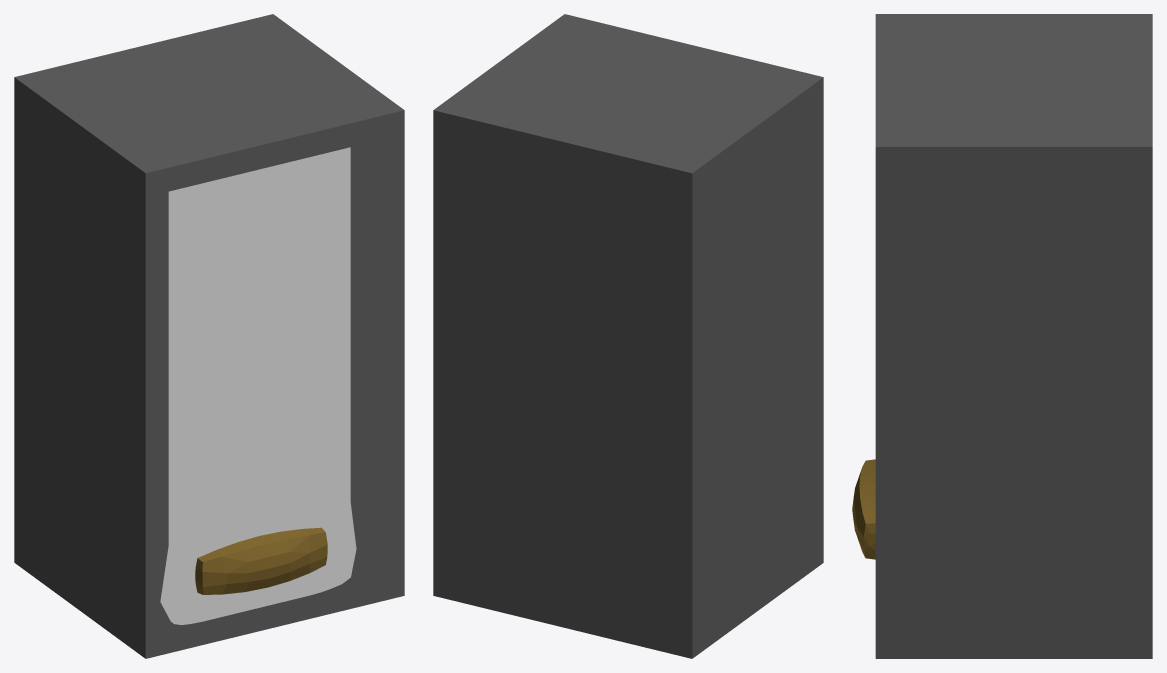
The model's file is vending_machine.fbx.
3 renders of one model, left to right at view 1: azimuth 30°, elevation 25°; view 2: azimuth 150°, elevation 25°; view 3: azimuth 270°, elevation 25°, orthographic. The views are drawn at different scales.
Visible parts, largest first — view 1: Cube; view 2: Cube; view 3: Cube.
Part boxes in pixels (box(x1,y1,x2,y2)): Cube: box(14, 14, 404, 658); Cube: box(433, 14, 823, 658); Cube: box(852, 14, 1152, 658).
Size of the model in its own units: 284 by 510 by 271.
